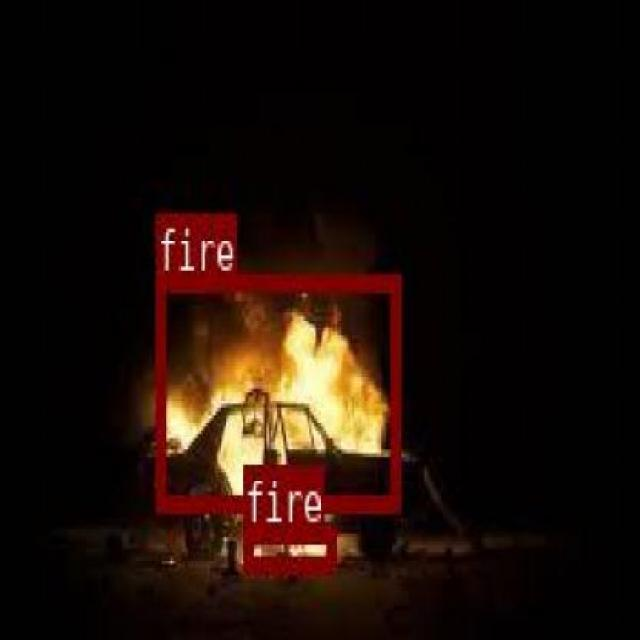fire: (154, 270, 400, 510), (243, 524, 334, 570)
